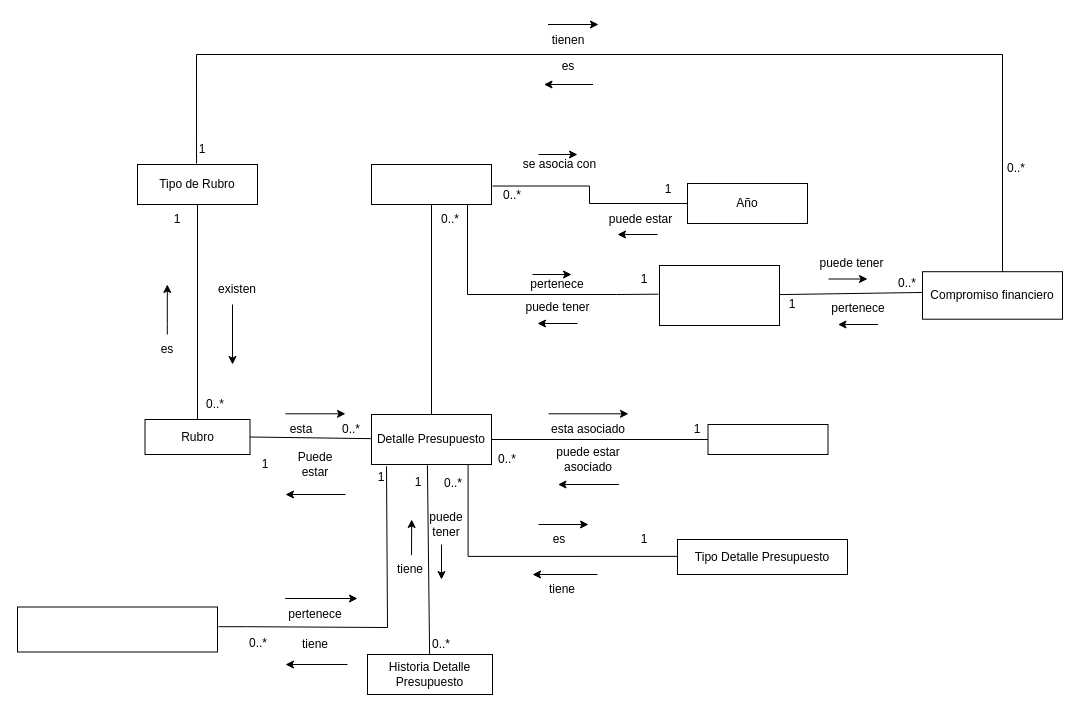
This 1080x712 diagram has some shape labels left out. The centre of each missing label's shape, as x and y in pixels:
"Ejecución Real Detalle Presupuesto" belongs at [117,629].
"Mes" belongs at [767,439].
"Persona" belongs at [719,295].
"Presupuesto" belongs at [431,184].
